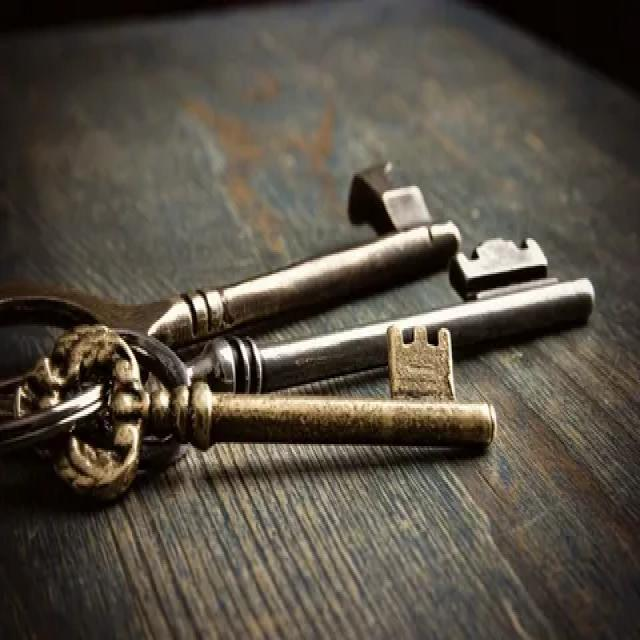key: (18, 316, 503, 509)
